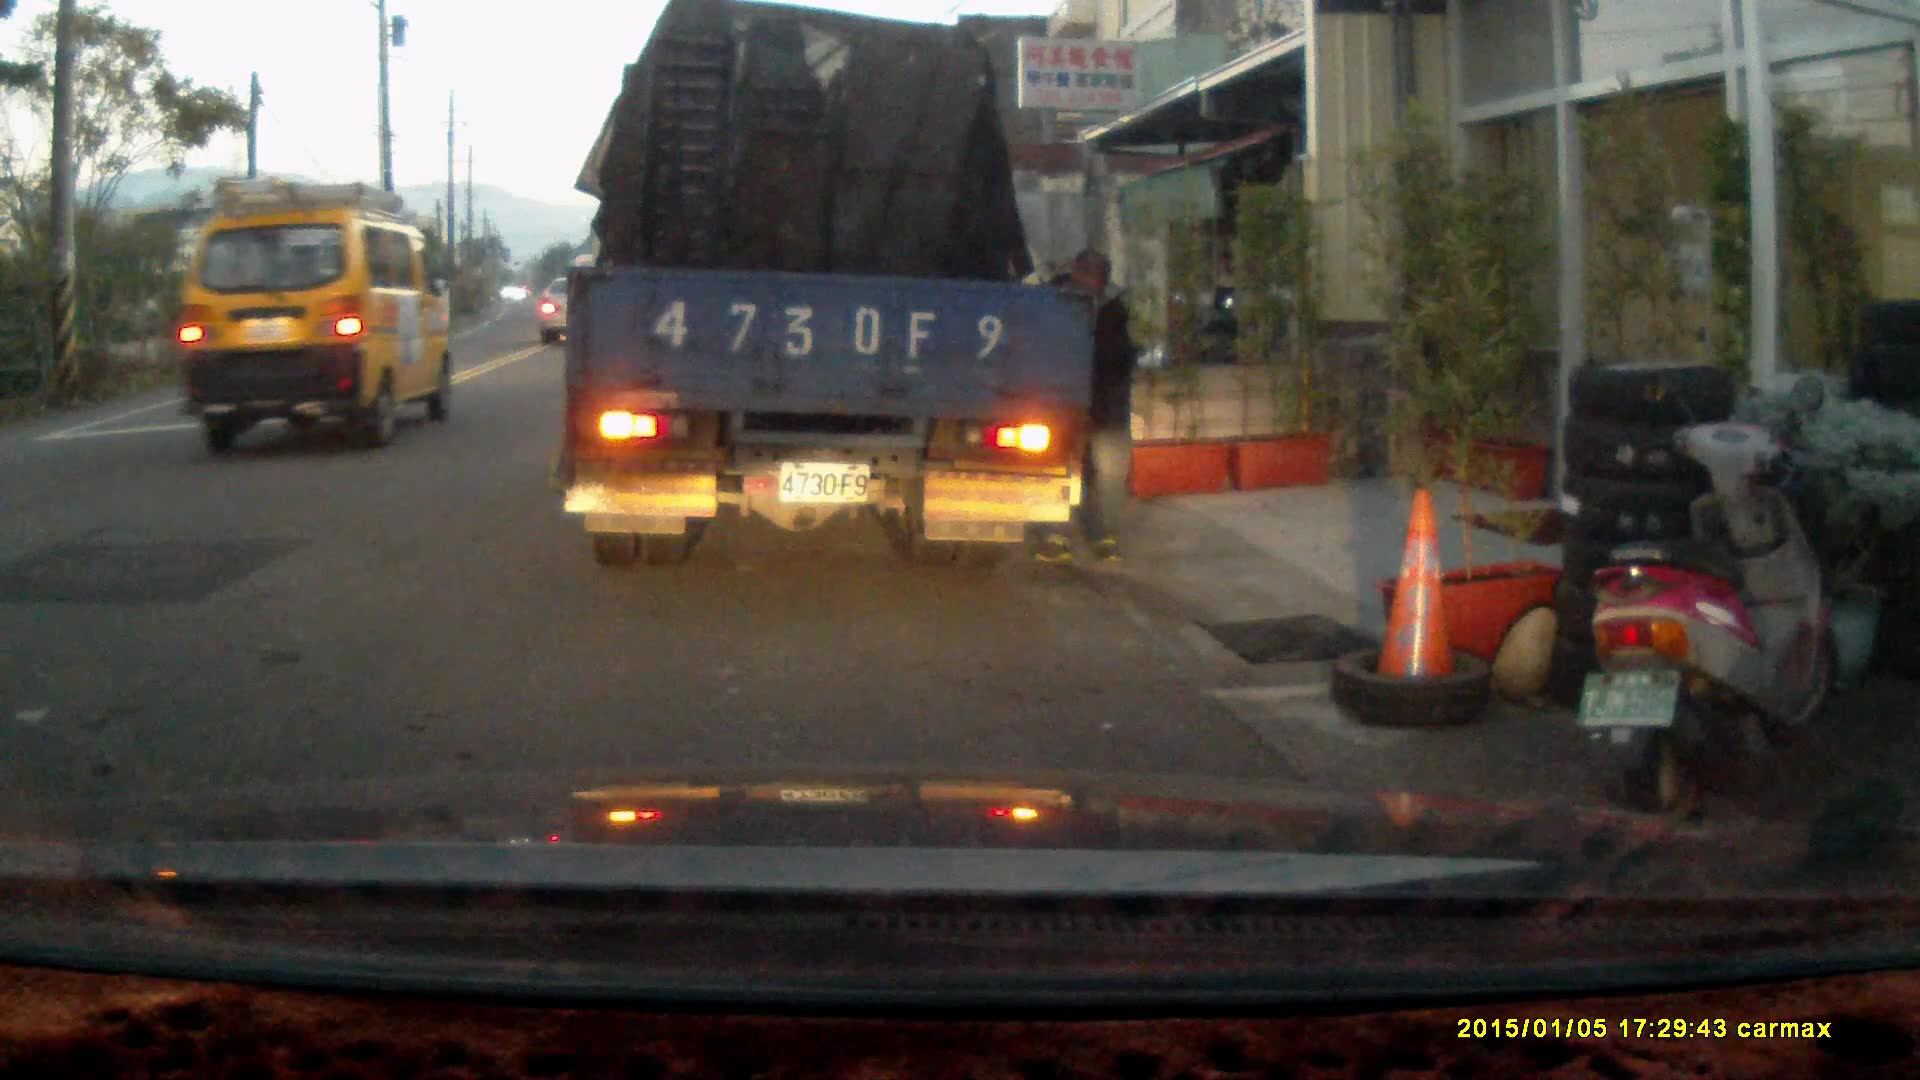pedestrian: (1028, 249, 1135, 563)
vehicle: (562, 24, 1085, 562), (166, 177, 457, 454), (539, 278, 600, 345)
